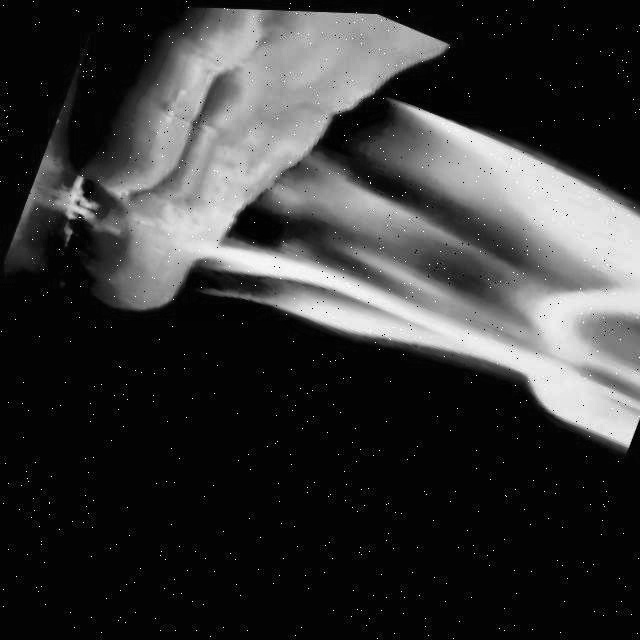Fire: (170, 12, 640, 454)
